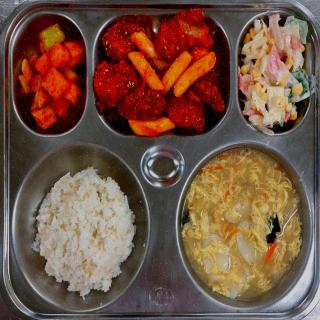Nasi: (33, 166, 136, 295)
